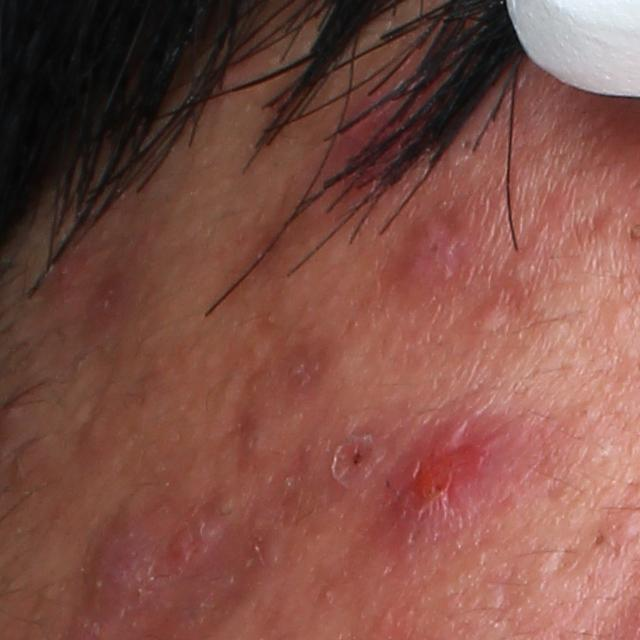comedo: (601, 301, 629, 332), (591, 528, 610, 547)
papule: (38, 252, 83, 299), (472, 307, 511, 338)
